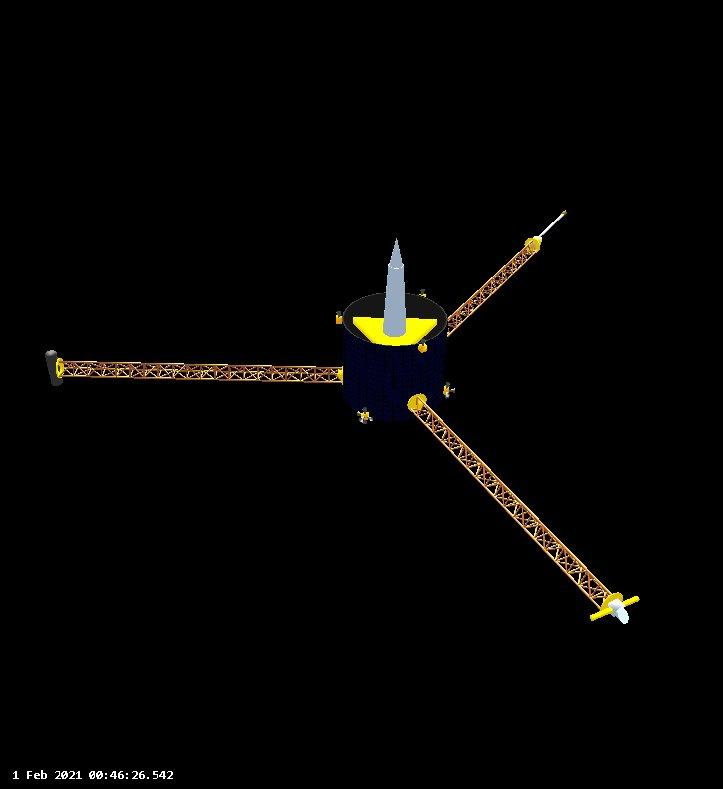antenna: (404, 385, 643, 627), (444, 208, 594, 348), (43, 345, 352, 393)
body: (337, 283, 460, 429)
thruster: (335, 310, 343, 318), (448, 387, 457, 394), (361, 406, 368, 415), (366, 415, 375, 422), (419, 288, 426, 295), (444, 392, 451, 399), (356, 410, 363, 417), (445, 381, 451, 389), (358, 416, 364, 424), (420, 339, 426, 346)
